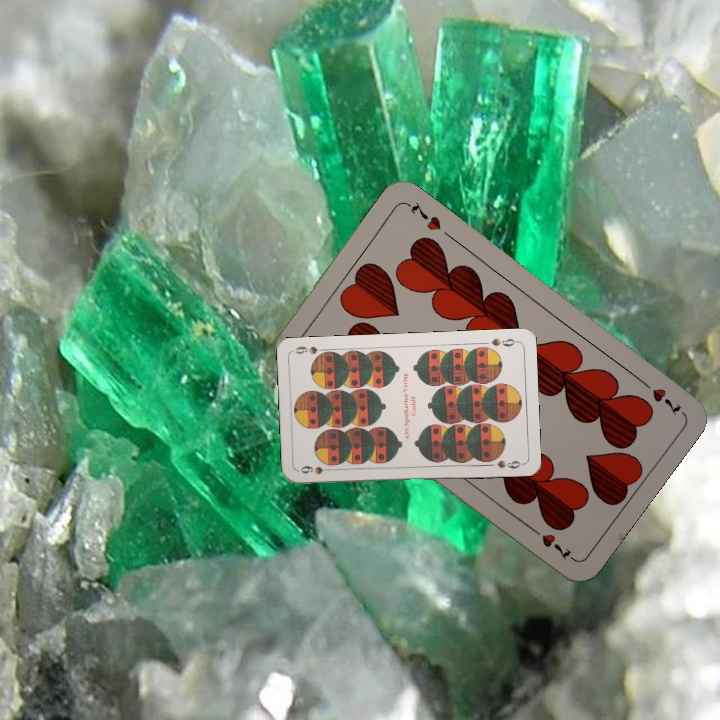H7: (635, 374, 684, 417)
S9: (297, 462, 337, 477), (487, 334, 520, 349)
